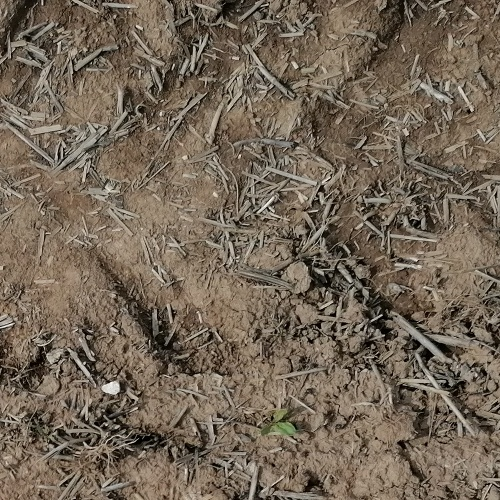beet: (259, 405, 296, 440)
